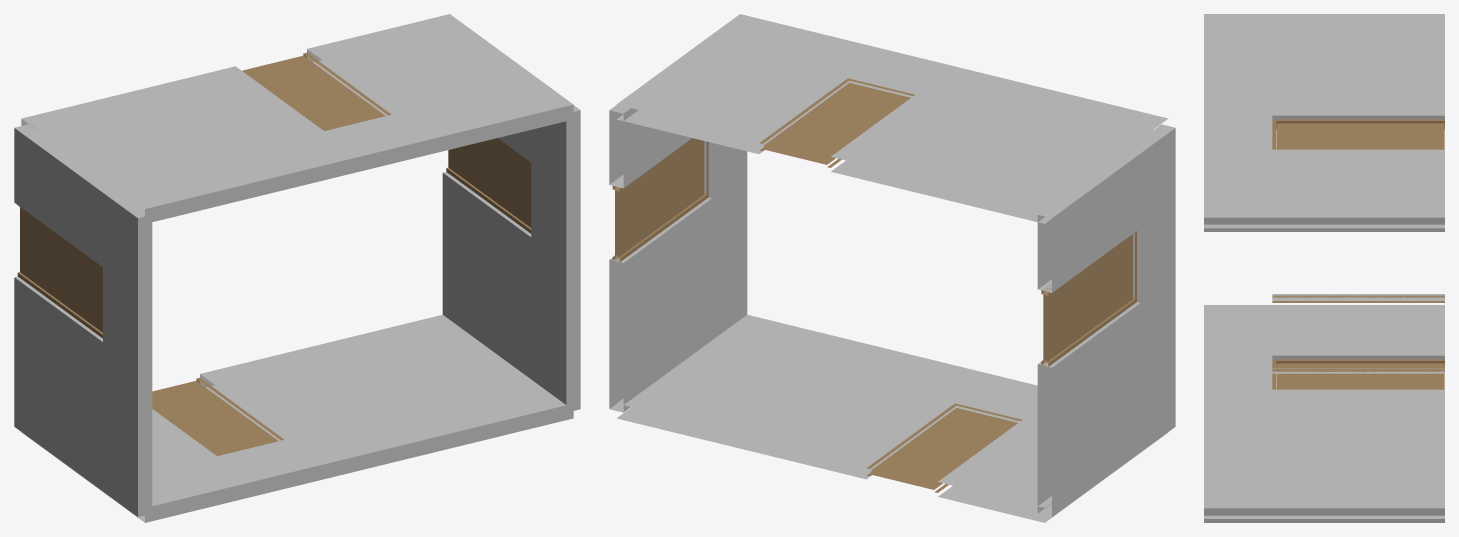
File: building.glb
3 views of the same model, side by side, from view 1: azimuth 30°, elevation 25°; view 2: azimuth 150°, elevation 25°; view 3: azimuth 270°, elevation 25° (orthographic). The views are drawn at different scales.
Visible parts, largest first — view 1: Wall_Wall_North, Wall_Wall_South, Wall_Wall_West, Wall_Wall_East, Door_Door_West, Door_Door_North, Door_Door_South, Door_Door_East; view 2: Wall_Wall_North, Wall_Wall_South, Wall_Wall_West, Wall_Wall_East, Door_Door_West, Door_Door_East, Door_Door_South, Door_Door_North; view 3: Wall_Wall_North, Wall_Wall_South, Door_Door_North, Door_Door_South, Wall_Wall_East, Door_Door_East.
Boxes of the visible parts, x1,y1,x2,y2 form: Wall_Wall_North: (21,14,573,221); Wall_Wall_South: (21,314,573,522); Wall_Wall_West: (14,124,152,516); Wall_Wall_East: (442,105,580,412); Door_Door_West: (17,205,102,338); Door_Door_North: (242,52,391,130); Door_Door_South: (152,377,284,456); Door_Door_East: (446,138,531,233); Wall_Wall_North: (616,14,1168,223); Wall_Wall_South: (616,314,1168,522); Wall_Wall_West: (1037,124,1175,516); Wall_Wall_East: (609,104,747,412); Door_Door_West: (1041,231,1136,366); Door_Door_East: (612,138,708,262); Door_Door_South: (866,403,1022,492); Door_Door_North: (759,78,914,167); Wall_Wall_North: (1204,14,1444,231); Wall_Wall_South: (1204,305,1444,522); Door_Door_North: (1272,119,1444,149); Door_Door_South: (1272,359,1444,389); Wall_Wall_East: (1204,224,1444,518); Door_Door_East: (1272,295,1444,371).
Bounding box in the file's own units: 6200 × 4200 × 3000.
